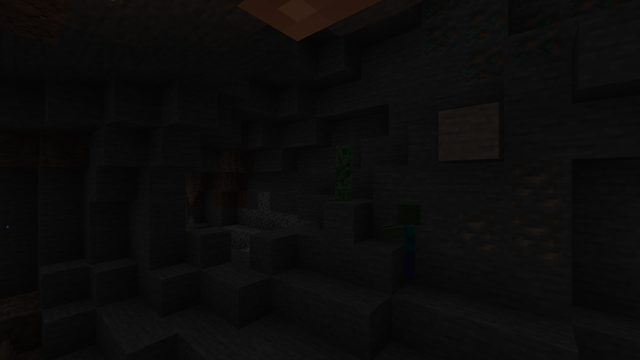creepers: (330, 142, 357, 200)
zombies: (392, 204, 422, 288)
